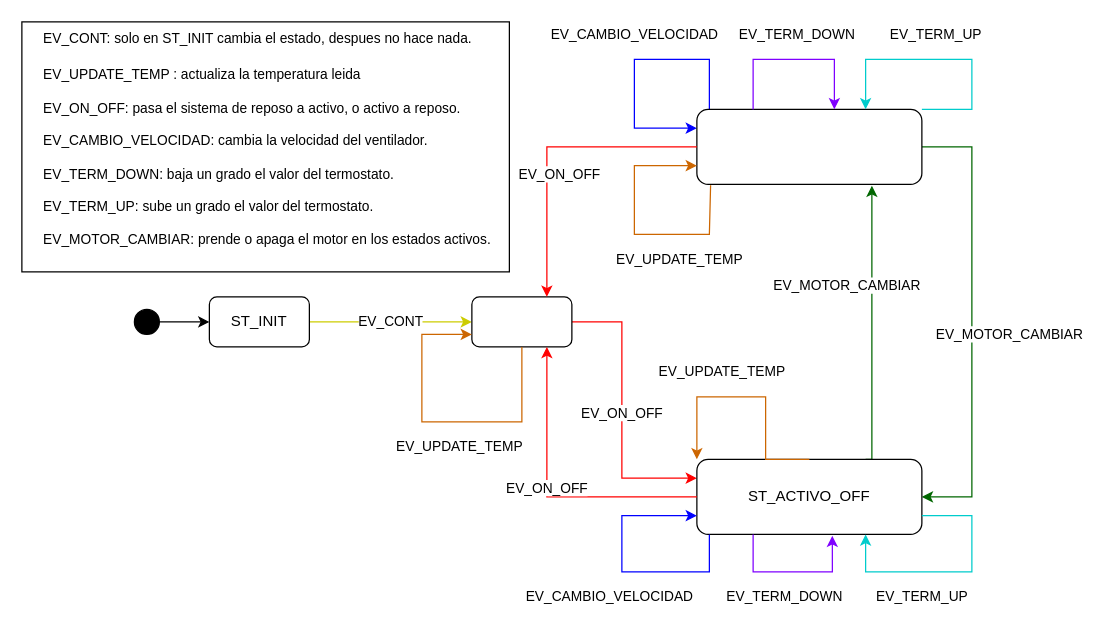
This 1105x626 diagram has some shape labels left out. The centre of each missing label's shape, as x and y in pixels:
"ST_ACTIVO_ON" belongs at (809,146).
"ST_REPOSO" belongs at (521,321).
